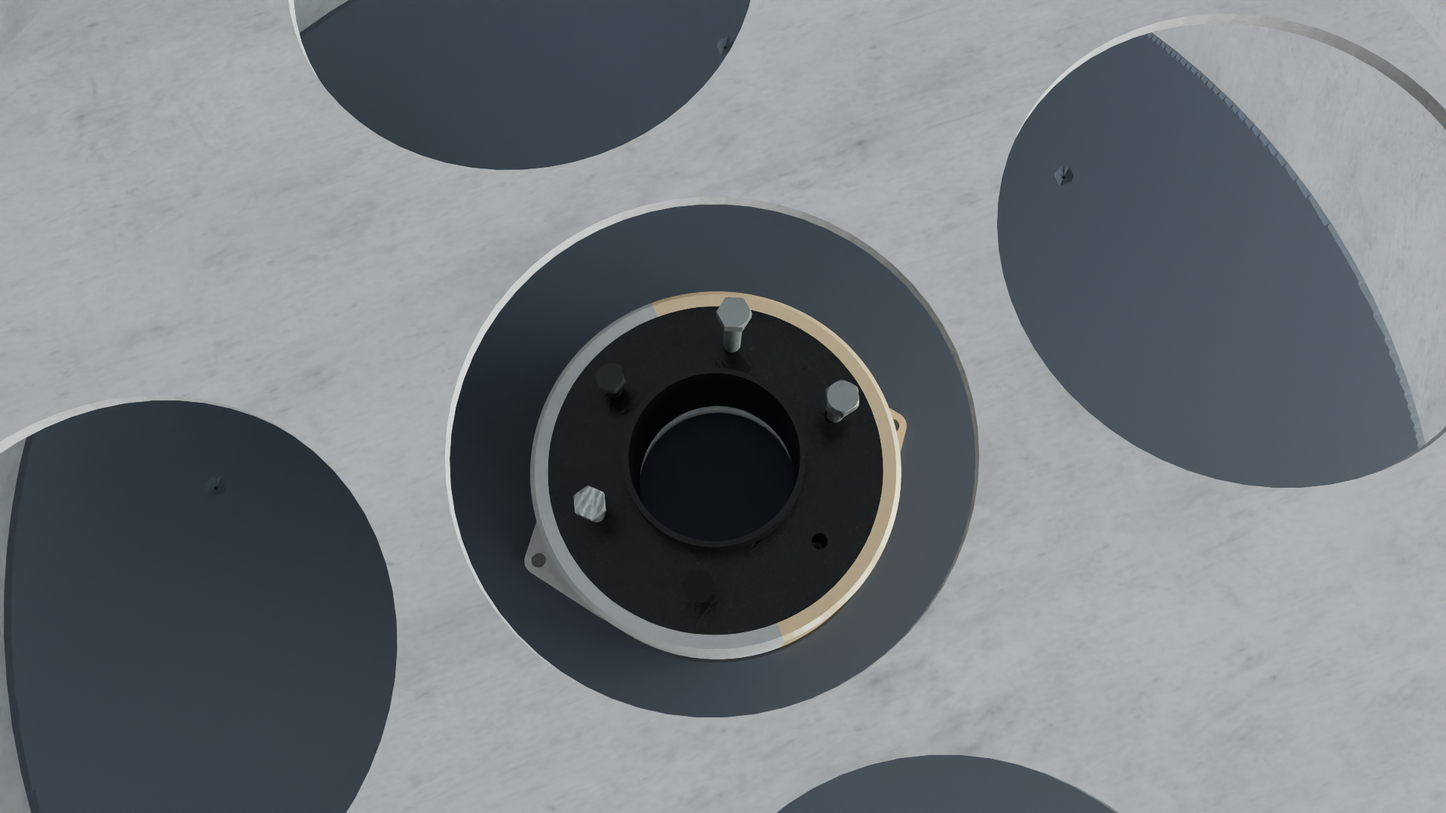bolt: (826, 379, 859, 415), (716, 297, 752, 327), (681, 571, 716, 601), (574, 486, 605, 519), (594, 362, 625, 391)
